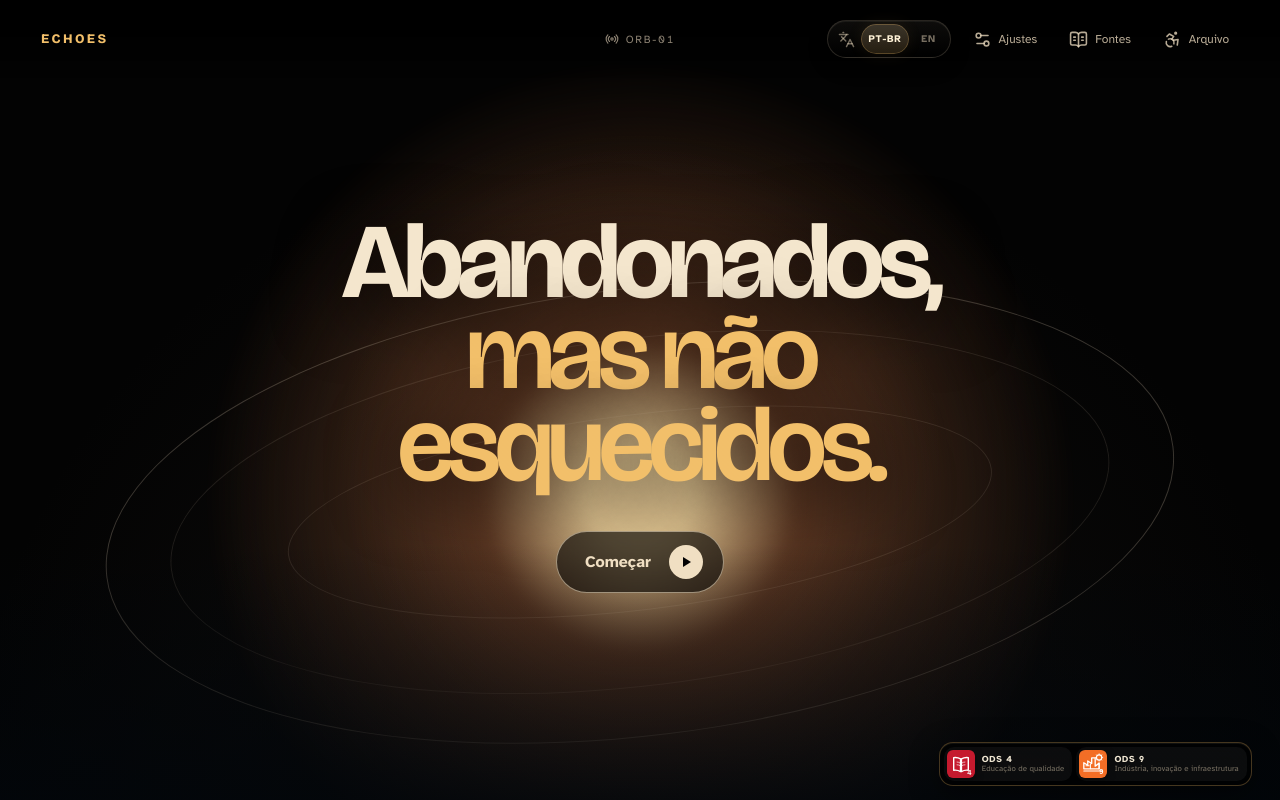
Scenario: cinematic scroll experience › completes the Mars quiz and only then exposes the finale
Expected: the element "O legado do Opportunity" is not shown
Click the button with aria-label "Começar a explorar o Sistema Solar" at (640, 562), box [556,531,724,593]
(page scrolled)
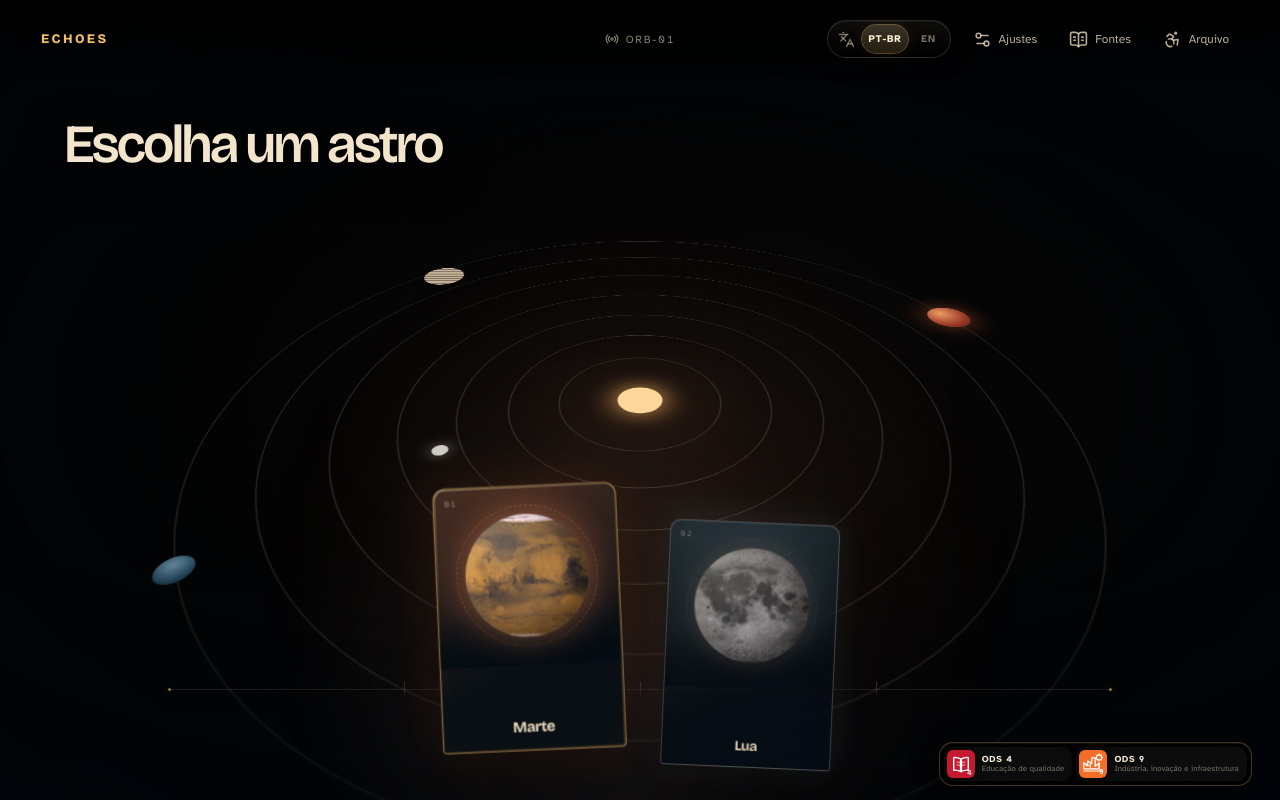
Expected: the button "Explorar 01 Marte" is shown
Hover over the button "Explorar 01 Marte" at (529, 621), box [432,485,626,758]
Click the button "Explorar 01 Marte" at (529, 621), box [432,485,626,758]
(page scrolled)
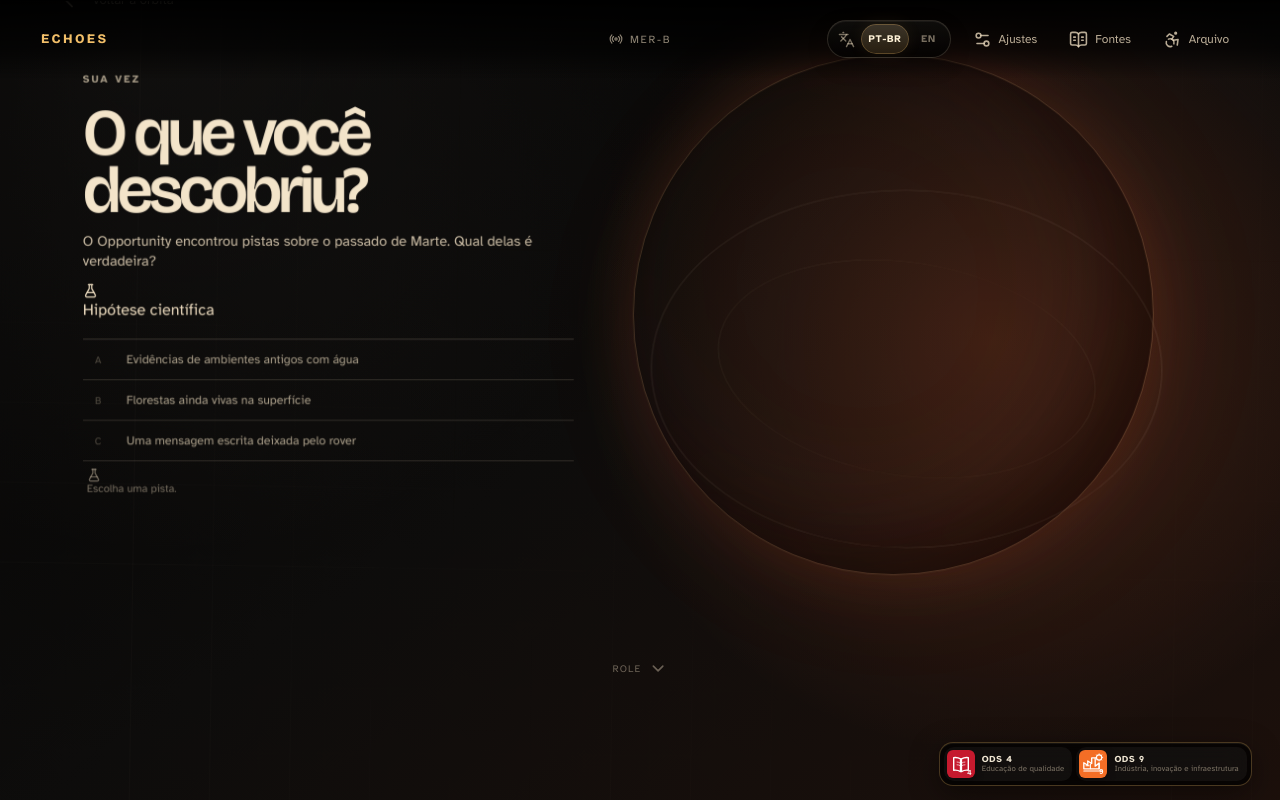
Expected: the button "Ver o que ficou" is not shown
Expected: the element named "Respostas" is shown, [83,339,574,461]
Click the button "B Florestas ainda vivas na superfície" at (219, 400), box [83,380,574,421]
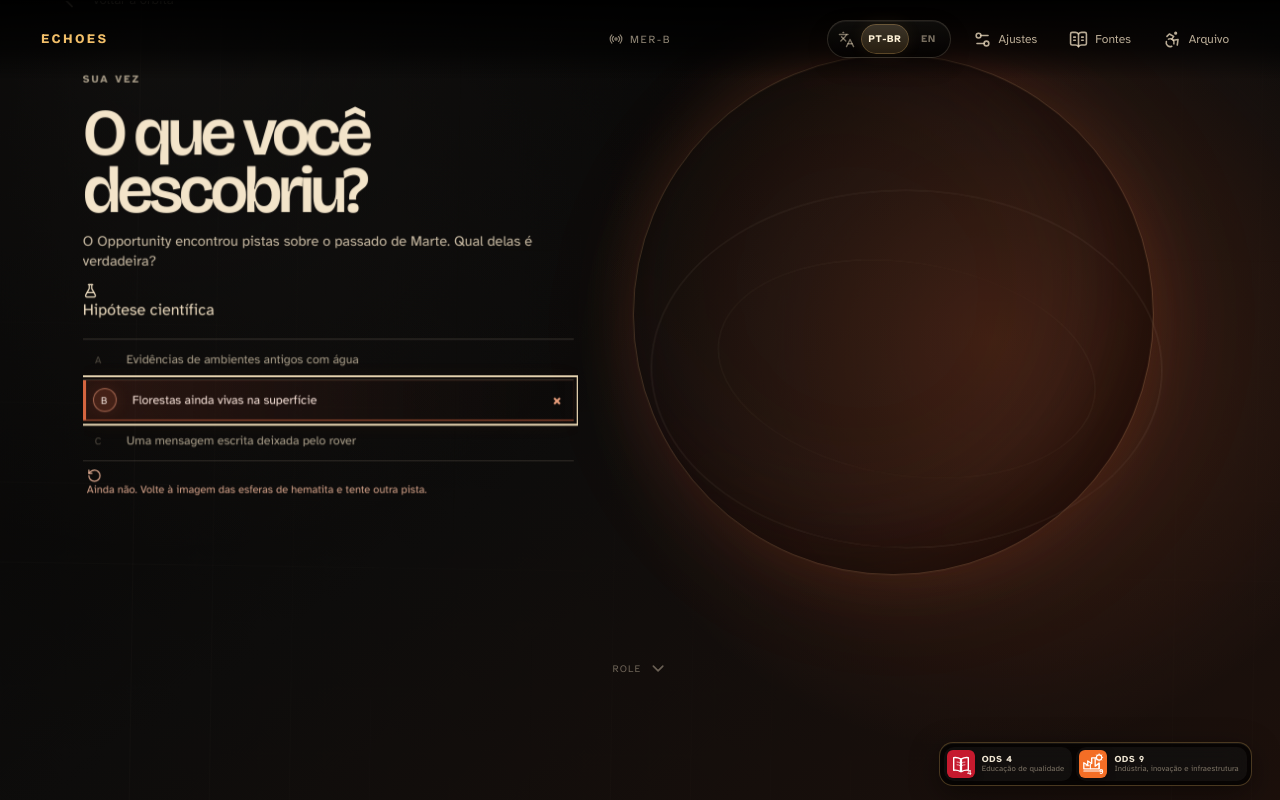
Expected: the button "Ver o que ficou" is not shown
Expected: the message reads "Ainda não. Volte à imagem das esferas de hematita e tente outra pista.", [87,483,427,496]
Click the button "A Evidências de ambientes antigos com água" at (328, 360), box [83,340,574,380]
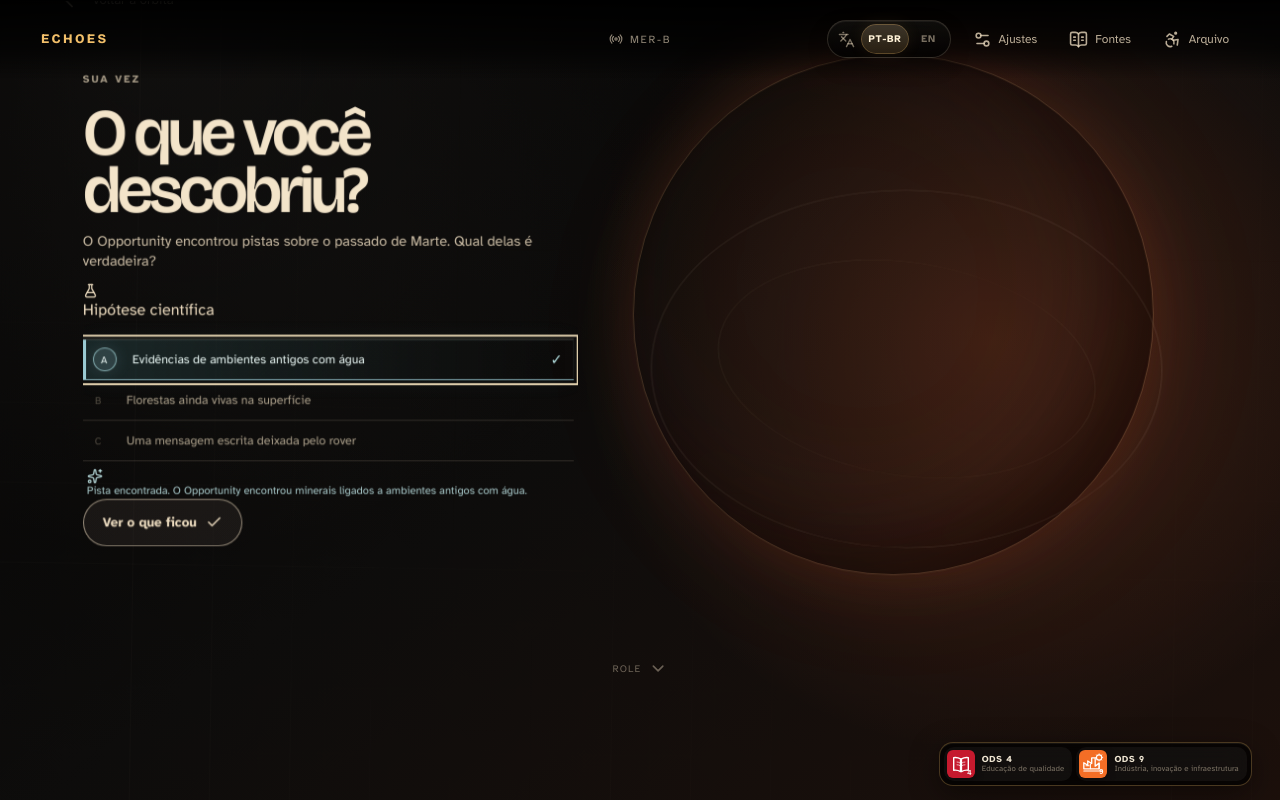
Expected: the message shows "Pista encontrada. O Opportunity encontrou minerais ligados a ambientes antigos com água.", [87,484,527,497]
Click the button "Ver o que ficou" at (162, 522), box [83,498,242,546]
(page scrolled)
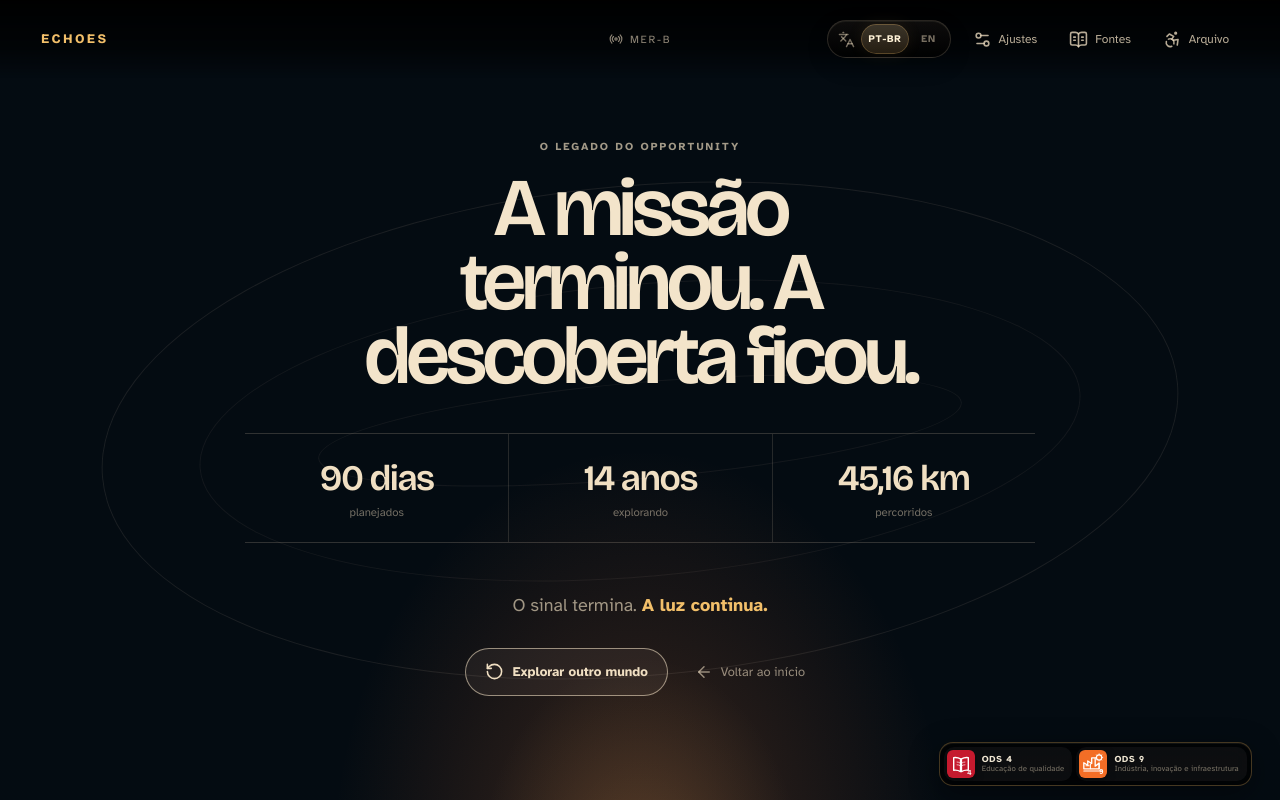
Expected: the element "O legado do Opportunity" is shown
Expected: the heading "A missão terminou. A descoberta ficou." is shown, [343,172,937,394]
